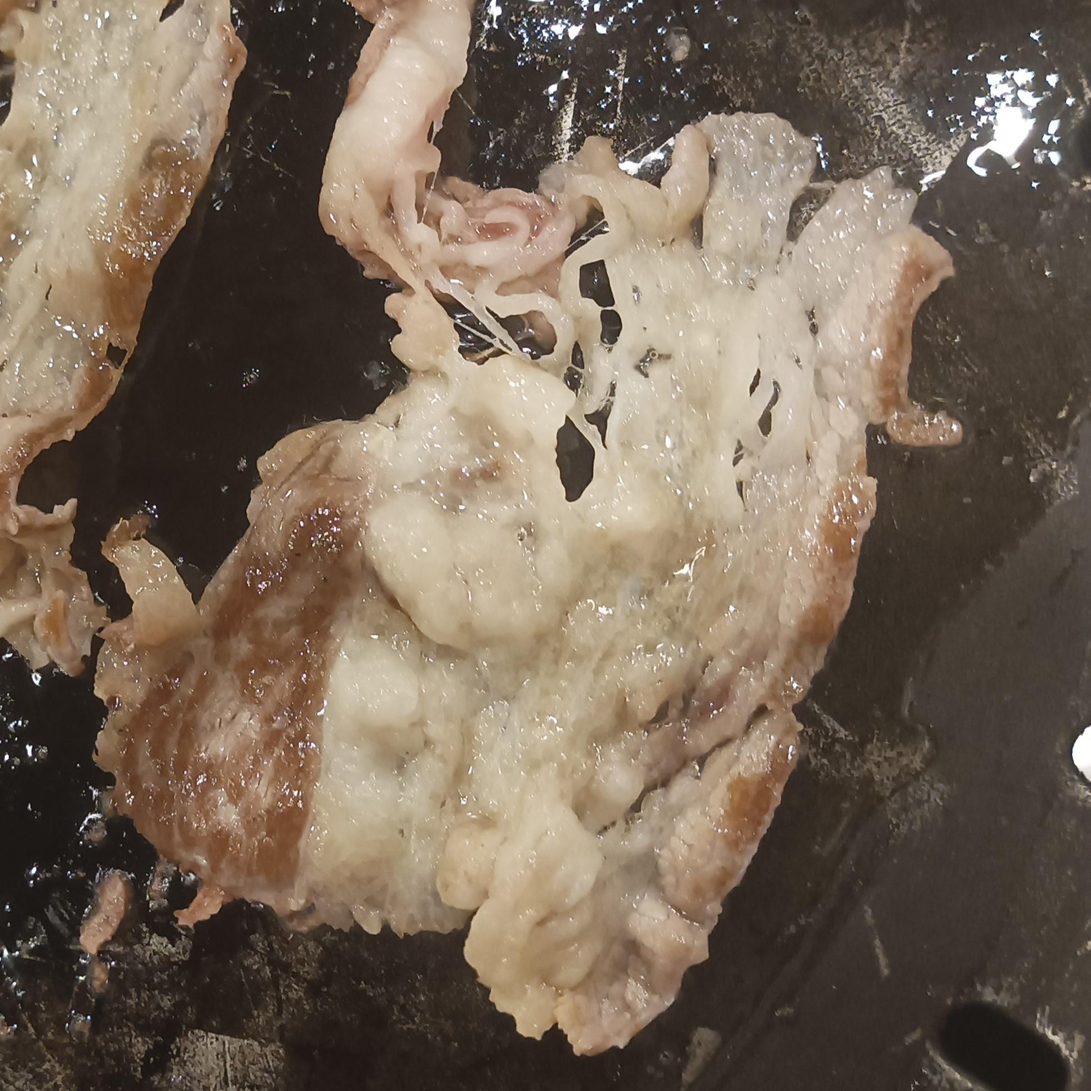Undercooked: (320, 0, 578, 359)
Well-Cooked: (95, 115, 952, 1057), (0, 0, 234, 650)
